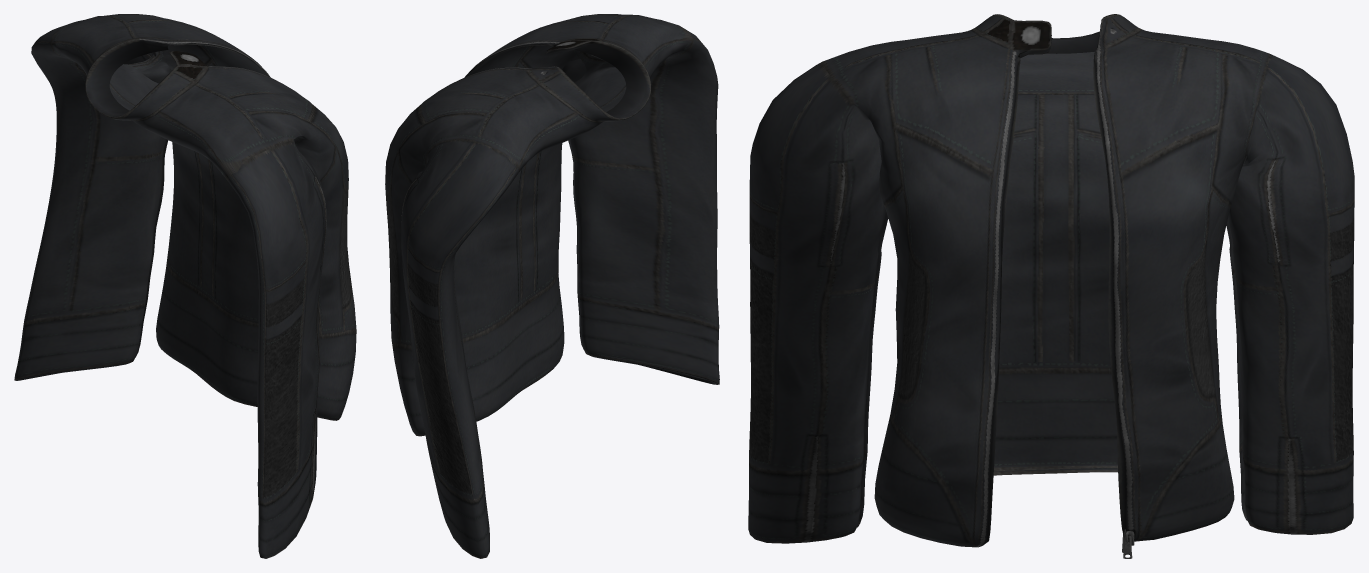
The model's file is Veste2_S13-1.FBX.
3 renders of one model, left to right at view 1: azimuth 30°, elevation 25°; view 2: azimuth 150°, elevation 25°; view 3: azimuth 270°, elevation 25°, orthographic. The views are drawn at different scales.
Parts seen in each view (by area): view 1: Jacket_MAIN, Jacket_MAIN_in; view 2: Jacket_MAIN, Jacket_MAIN_in; view 3: Jacket_MAIN, Jacket_MAIN_in.
Boxes of the visible parts, x1,y1,x2,y2 form: Jacket_MAIN: (14, 14, 356, 558); Jacket_MAIN_in: (68, 45, 297, 542); Jacket_MAIN: (385, 14, 719, 558); Jacket_MAIN_in: (453, 45, 704, 544); Jacket_MAIN: (748, 14, 1354, 558); Jacket_MAIN_in: (856, 24, 1247, 552).
Bounding box in the file's own units: 0.3778 × 0.7115 × 0.7484.
